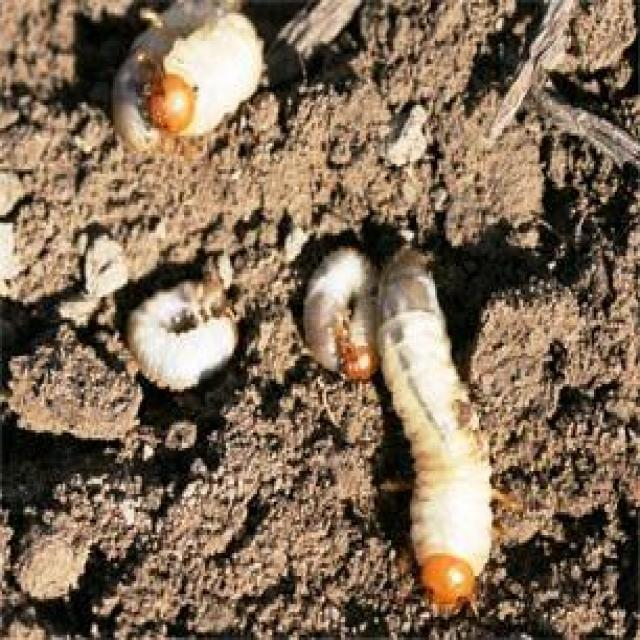Grub-Adult-: (366, 242, 508, 611), (115, 3, 274, 153), (117, 260, 251, 404), (302, 233, 388, 393)
